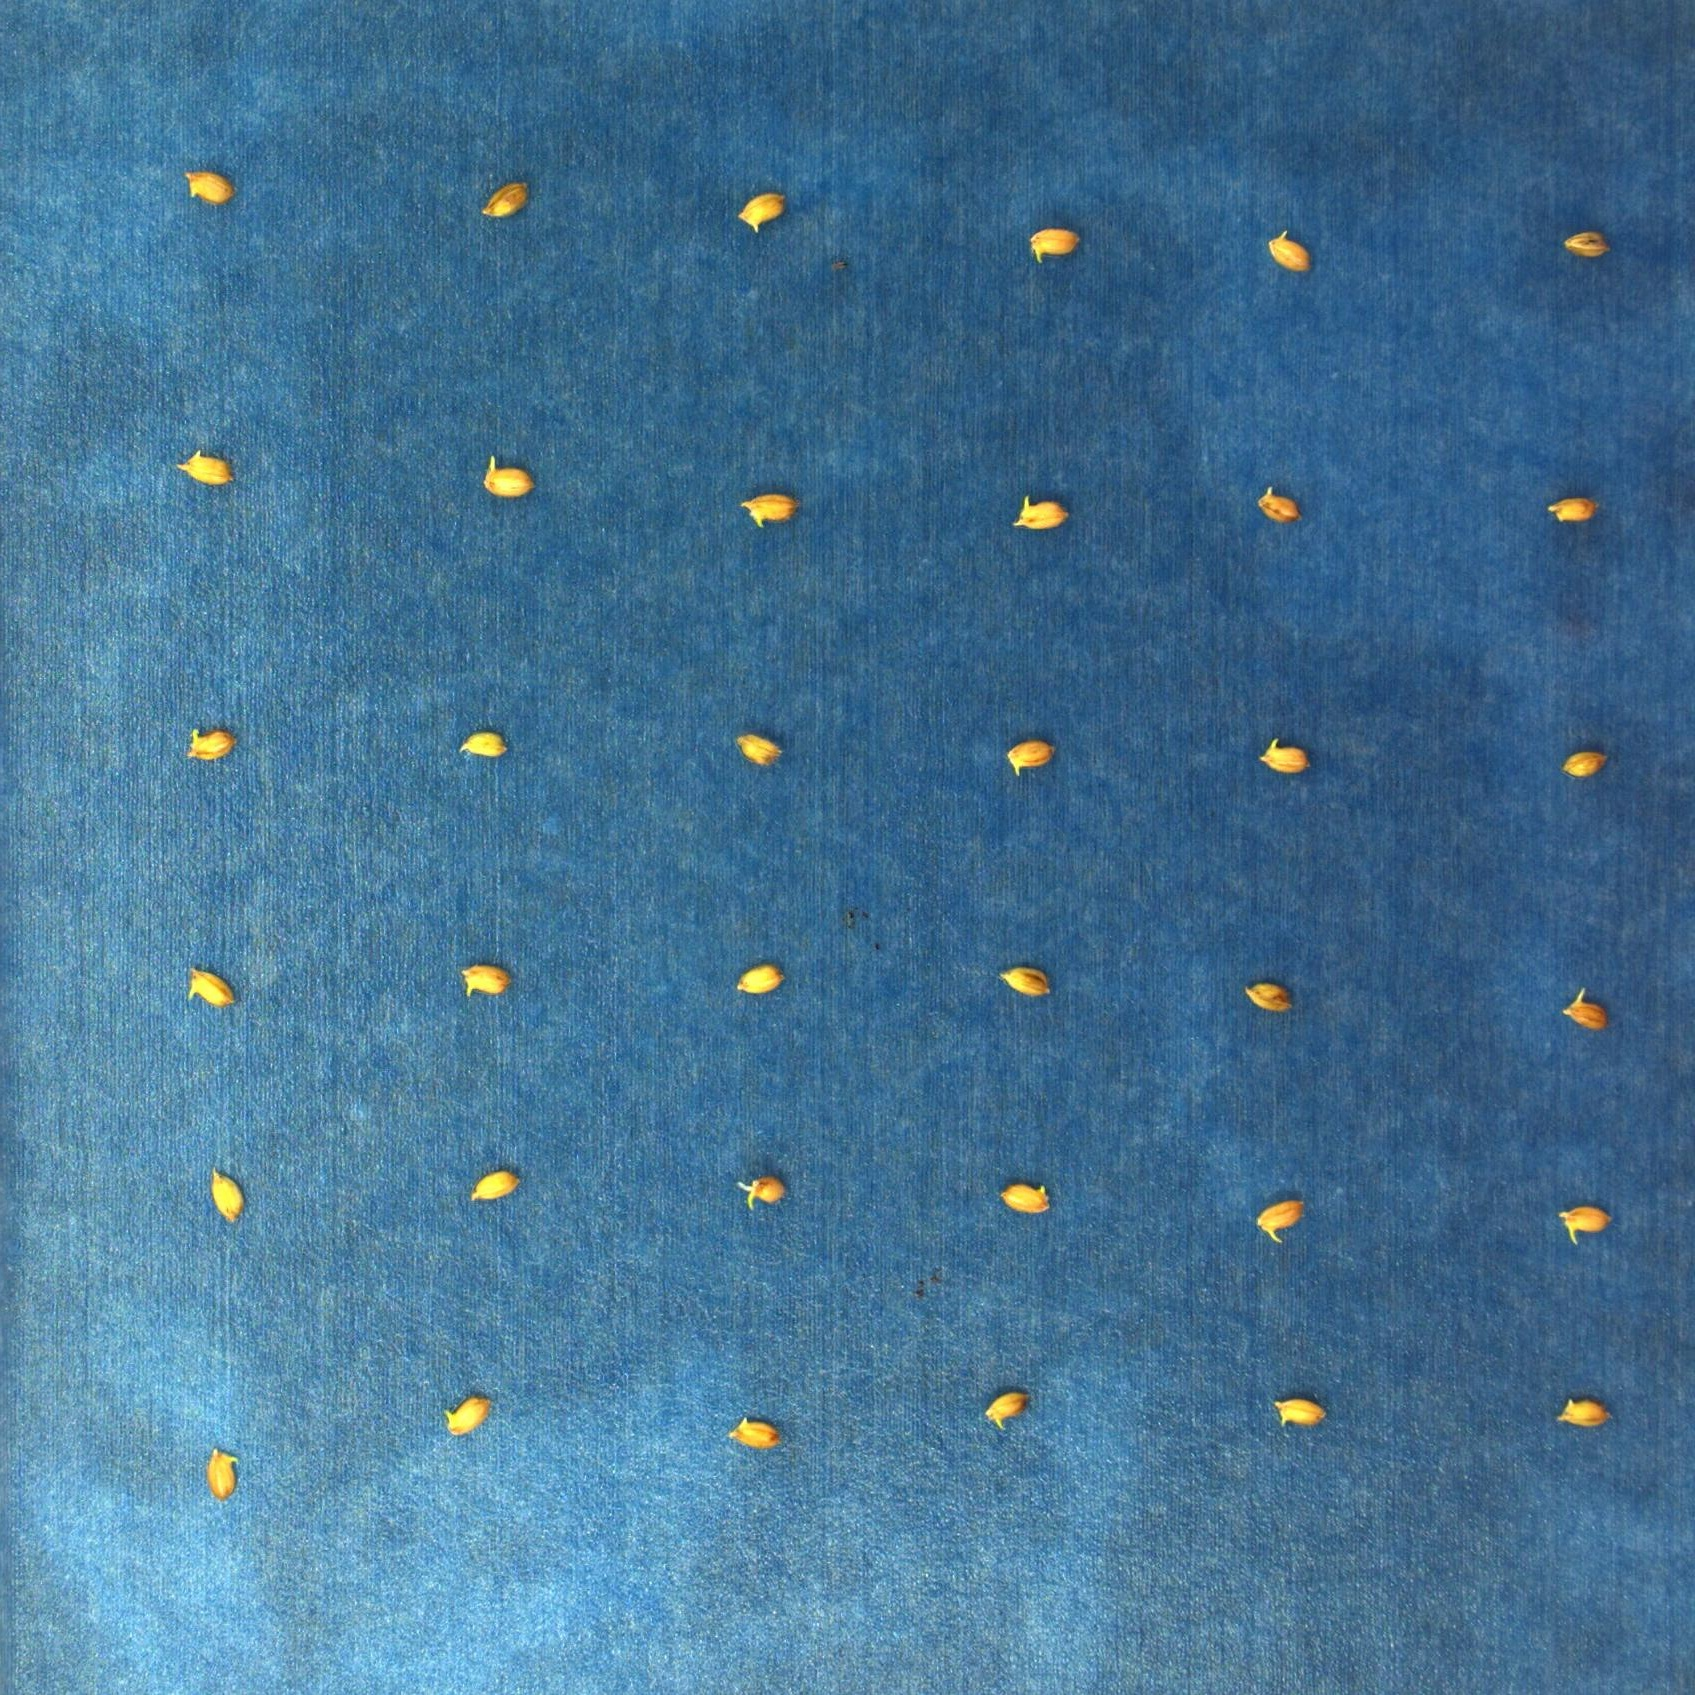not sprout: (1557, 1391, 1619, 1439), (1555, 983, 1611, 1034), (1554, 1198, 1614, 1245), (1254, 1198, 1304, 1243), (1267, 230, 1319, 272), (483, 455, 536, 497), (441, 1395, 494, 1437), (740, 492, 799, 529), (737, 192, 789, 234), (458, 961, 511, 1001), (1243, 975, 1298, 1014), (175, 449, 234, 484), (210, 1166, 245, 1225), (1006, 737, 1057, 778), (1014, 494, 1069, 529), (1029, 227, 1080, 265), (205, 1447, 241, 1501), (481, 182, 529, 220), (186, 967, 234, 1006), (737, 961, 785, 1000), (470, 1169, 518, 1208), (726, 1416, 781, 1450), (1260, 737, 1310, 775), (737, 1173, 789, 1209), (986, 1391, 1032, 1430), (998, 965, 1051, 998), (736, 733, 785, 767), (1000, 1183, 1054, 1214), (186, 728, 237, 761), (185, 168, 231, 203), (1257, 484, 1301, 522), (1271, 1397, 1326, 1426), (1562, 230, 1614, 258), (1562, 750, 1610, 779), (458, 731, 511, 757), (1549, 497, 1597, 522)
